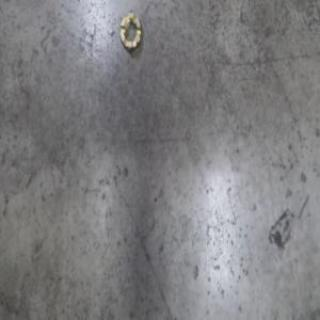Nuttrack_idkeyframe: (118, 9, 142, 52)
